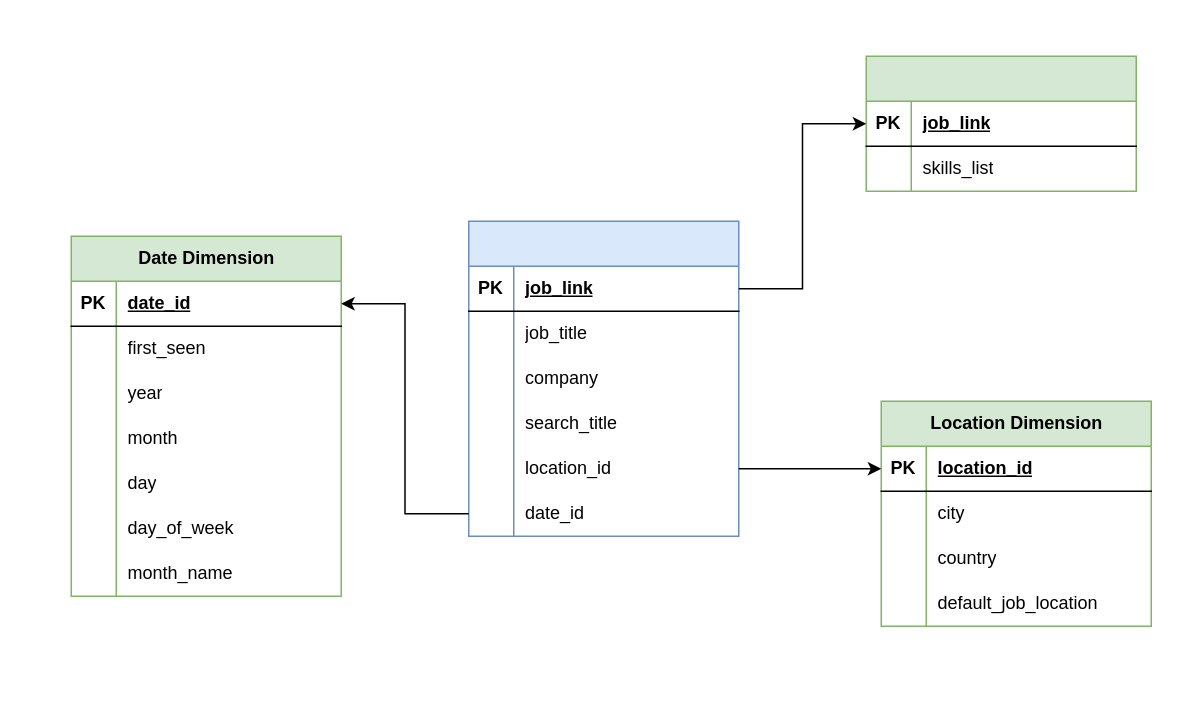
This 1191x711 diagram has some shape labels left out. The box of each missing label's shape, as (x1, y1, x2, y2) in pixels:
Fact Table: (467, 220, 739, 536)
Skills Dimension: (865, 55, 1136, 191)
